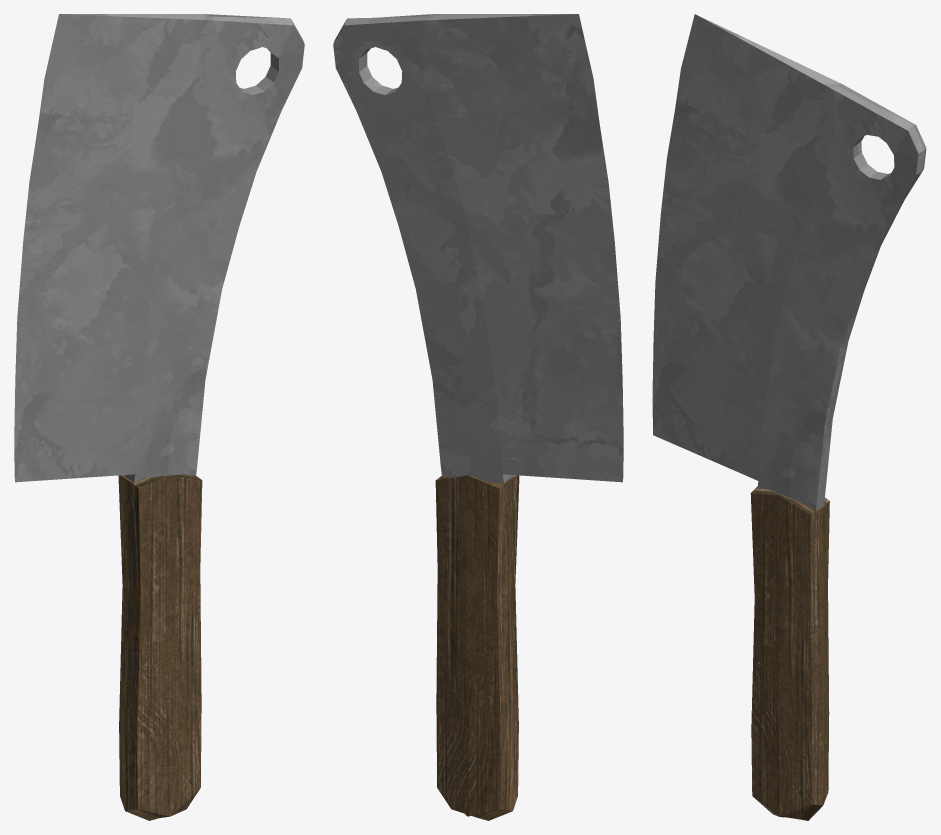
The model's file is Cleaver.fbx.
The picture shows the model from 3 angles, left to right: view 1: azimuth 30°, elevation 25°; view 2: azimuth 150°, elevation 25°; view 3: azimuth 330°, elevation 25°; orthographic projection. The views are drawn at different scales.
Visible parts, largest first — view 1: Cube.001; view 2: Cube.001; view 3: Cube.001.
Boxes of the visible parts, x1,y1,x2,y2 form: Cube.001: [14, 14, 304, 820]; Cube.001: [333, 14, 623, 820]; Cube.001: [652, 14, 926, 820].
Size of the model in its own units: 0.2058 by 0.5646 by 0.0265.
Materials: 2 (2 with a texture image).
